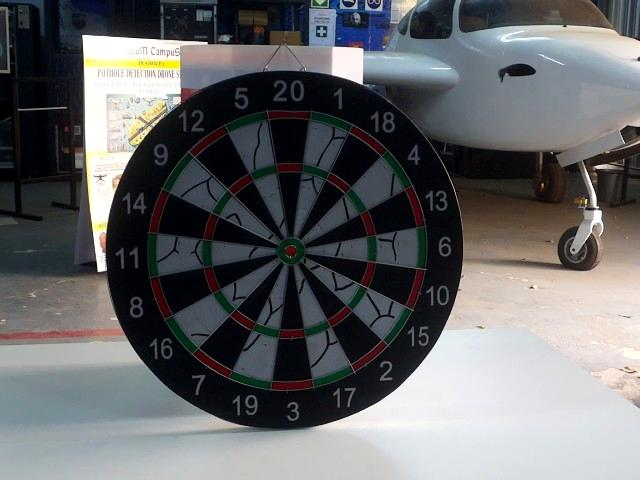bullseye: (282, 236, 302, 264)
double_11: (150, 235, 160, 279)
double_20: (268, 110, 310, 121)
double_3: (274, 379, 311, 390)
double_6: (418, 226, 427, 272)
triple_20: (277, 162, 302, 176)
triple_3: (204, 239, 213, 267), (283, 330, 303, 340)
triple_6: (368, 236, 376, 261)
